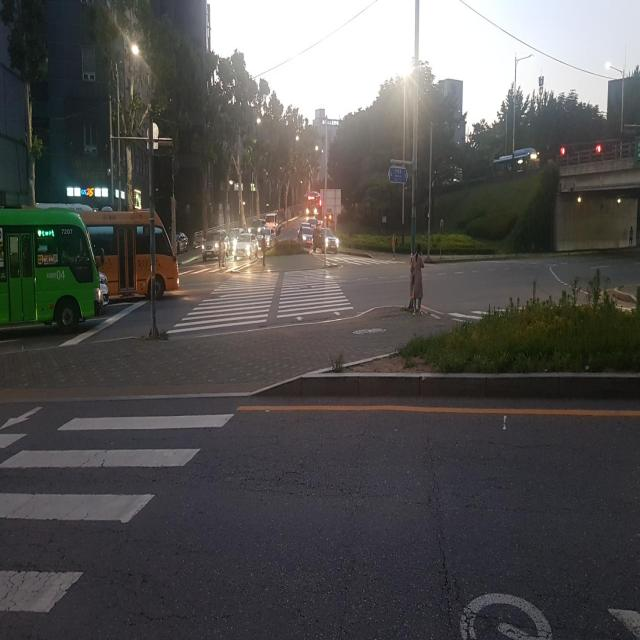빨간불: (317, 198, 323, 222)
횡단보도: (0, 405, 236, 617), (164, 268, 354, 334)
